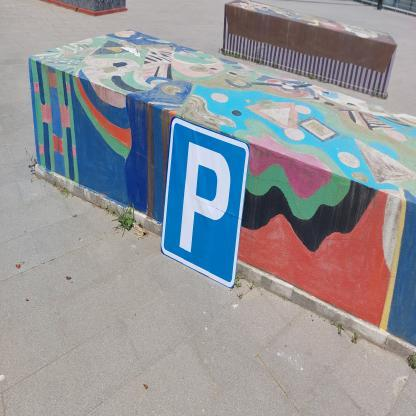parking: (160, 116, 251, 291)
